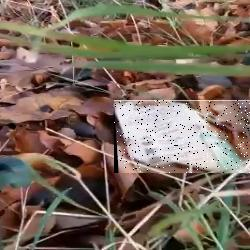restaffald: (114, 100, 250, 173)
